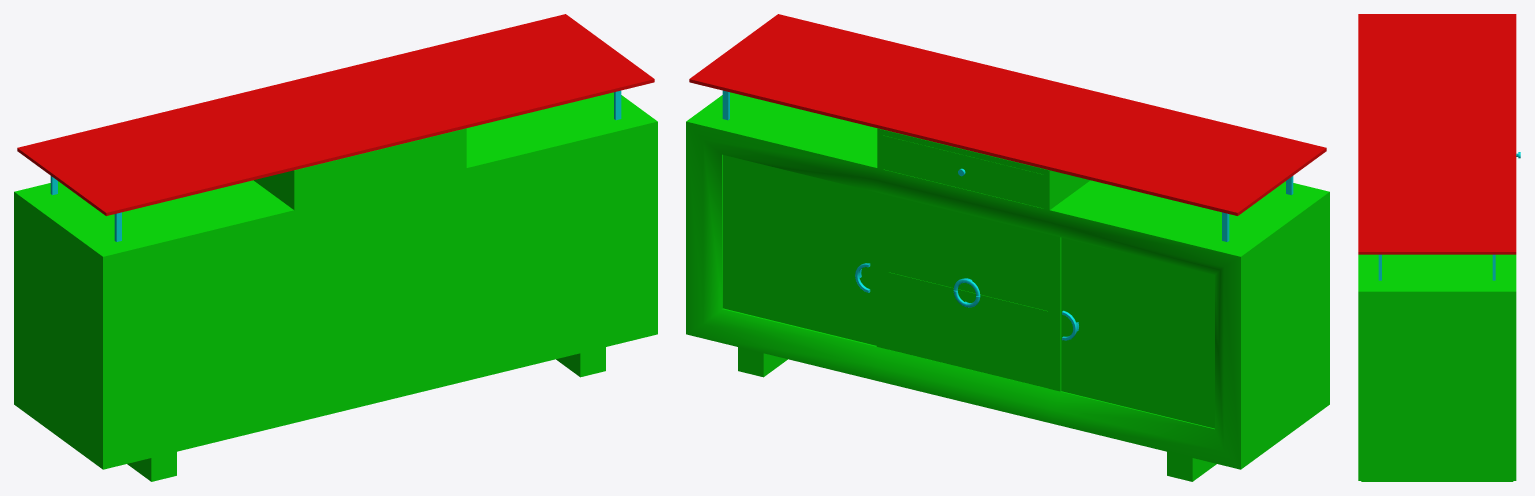
The model's file is Aparador_Low.fbx.
3 views of the same model, side by side, from view 1: azimuth 30°, elevation 25°; view 2: azimuth 150°, elevation 25°; view 3: azimuth 270°, elevation 25° (orthographic). The views are drawn at different scales.
Parts seen in each view (by area): view 1: Mueble, Cristal; view 2: Mueble, Cristal, PuertaDerecha, PuertaIZquierda, CajonAbajo, CajonArriba, Cajon01; view 3: Cristal, Mueble, Metal.
Part boxes in pixels (x1=…): Mueble: x1=14, y1=92, x2=657, y2=481; Cristal: x1=17, y1=14, x2=654, y2=215; Mueble: x1=686, y1=92, x2=1329, y2=481; Cristal: x1=689, y1=14, x2=1326, y2=215; PuertaDerecha: x1=1061, y1=237, x2=1214, y2=428; PuertaIZquierda: x1=723, y1=155, x2=876, y2=345; CajonAbajo: x1=888, y1=272, x2=1048, y2=388; CajonArriba: x1=888, y1=195, x2=1048, y2=310; Cajon01: x1=883, y1=135, x2=1043, y2=208; Cristal: x1=1358, y1=14, x2=1516, y2=254; Mueble: x1=1358, y1=254, x2=1516, y2=481; Metal: x1=1378, y1=254, x2=1495, y2=280.
Size of the model in its own units: 180 by 87.37 by 51.4.
